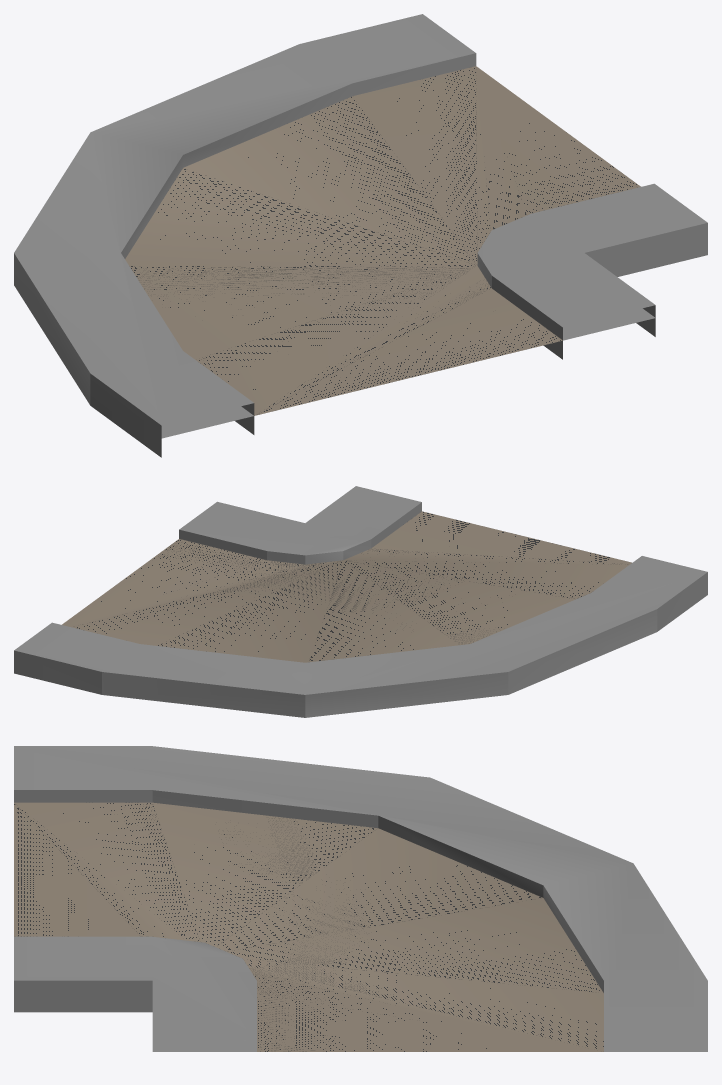
3 views of the same model, one above another, from view 1: azimuth 30°, elevation 25°; view 2: azimuth 150°, elevation 25°; view 3: azimuth 270°, elevation 25° (orthographic). The views are drawn at different scales.
Parts seen in each view (by area): view 1: Model_0, Skybox; view 2: Model_0, Skybox; view 3: Model_0, Skybox.
Part boxes in pixels (x1,y1,x2,y2): Model_0: (14, 14, 707, 457); Skybox: (133, 260, 654, 438); Model_0: (14, 486, 707, 717); Skybox: (159, 511, 631, 645); Model_0: (14, 746, 707, 1051); Skybox: (14, 802, 707, 1051).
Size of what is drawn, in the model's own units: 2000 by 100 by 2000.
